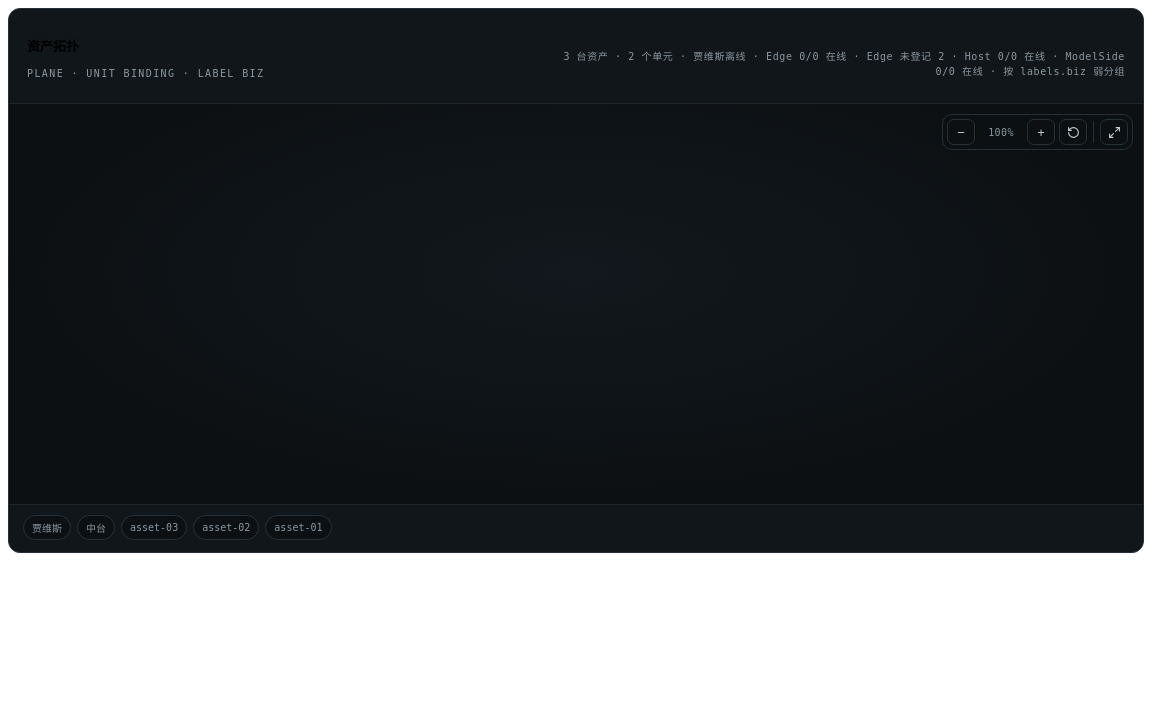
Test: AssetEstateMap › 点击画布空白会取消实体选中
Click the button with aria-label "选中资产 mall-gateway" at (226, 528), box [193,515,259,540]
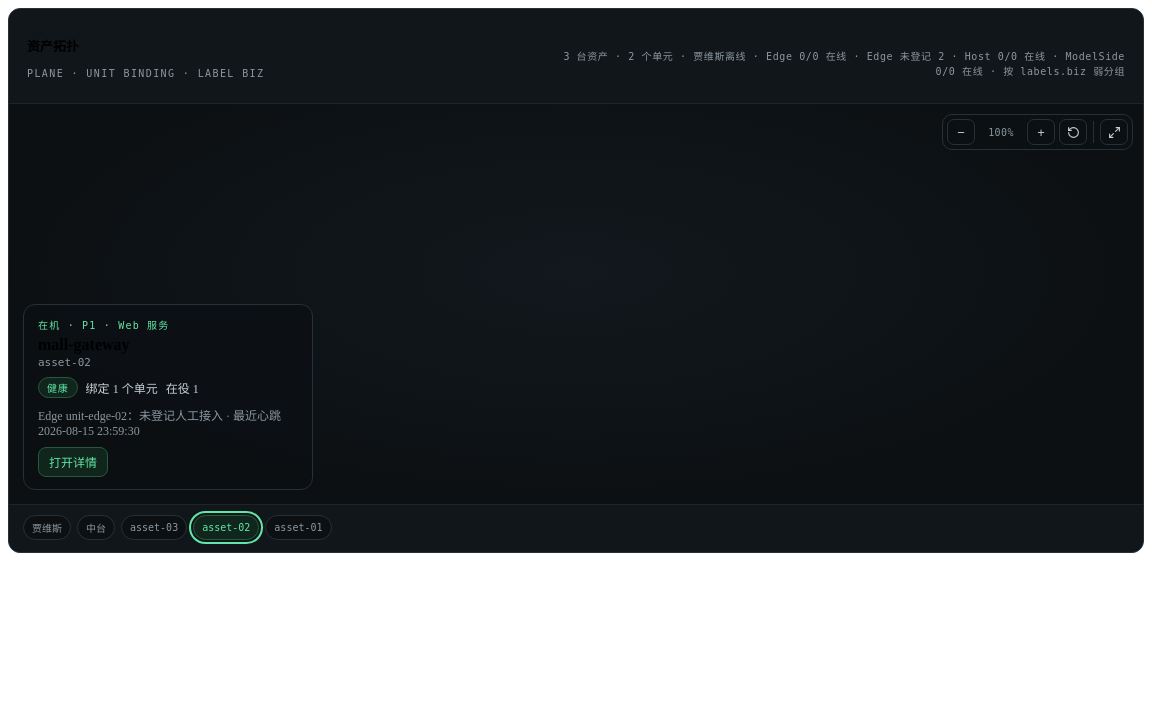
Result: the element named "选中资产" is shown at [23,304,313,490]
Press the mouse on the drawing named "资产拓扑画布" at (576, 304), box [9,104,1143,504]
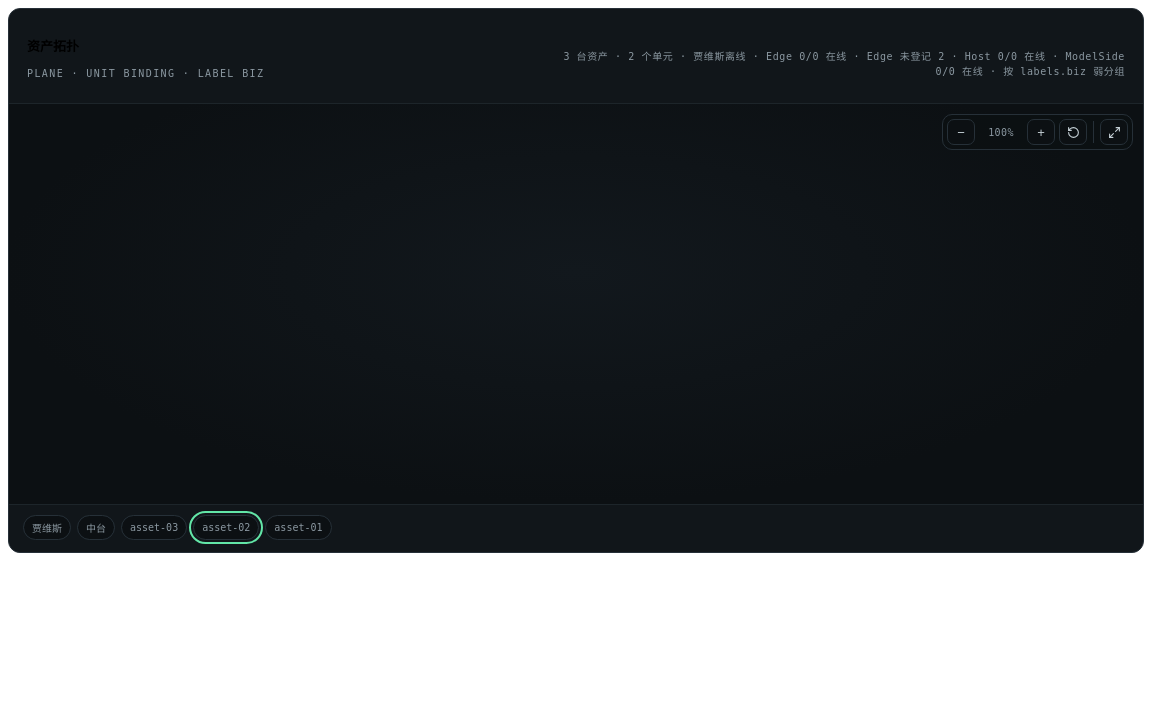
Result: the field labelled "选中资产" is gone
